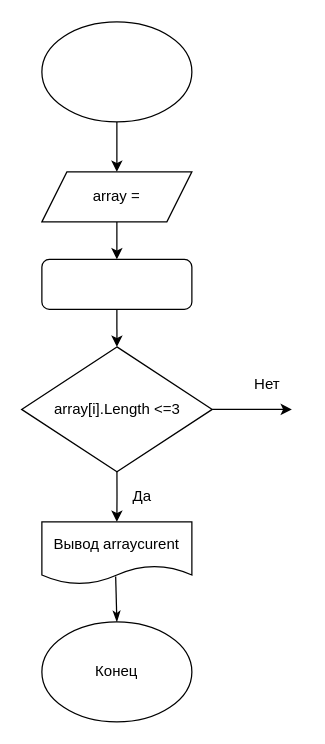
This 325x744 diagram has some shape labels left out. Each missing label, with the centre of its shape:
"i = 0, i < array.Length, i ++" goes at (116,283).
"Начало" goes at (116,71).
